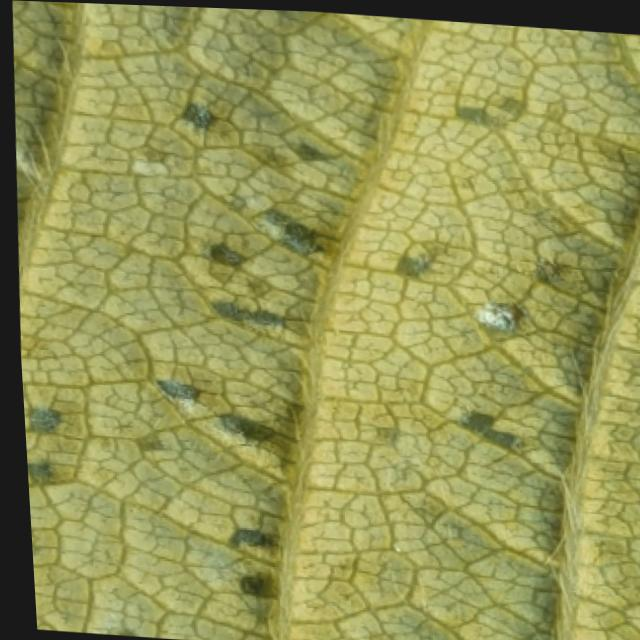Angular Leafspot: (11, 4, 640, 637)
